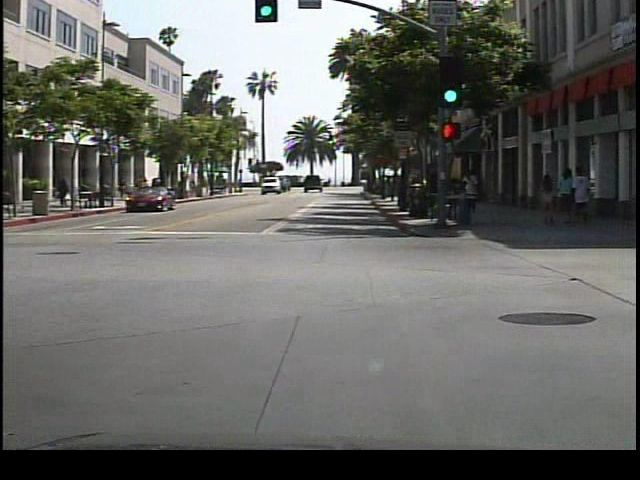person: (465, 163, 493, 218), (60, 173, 78, 210)
